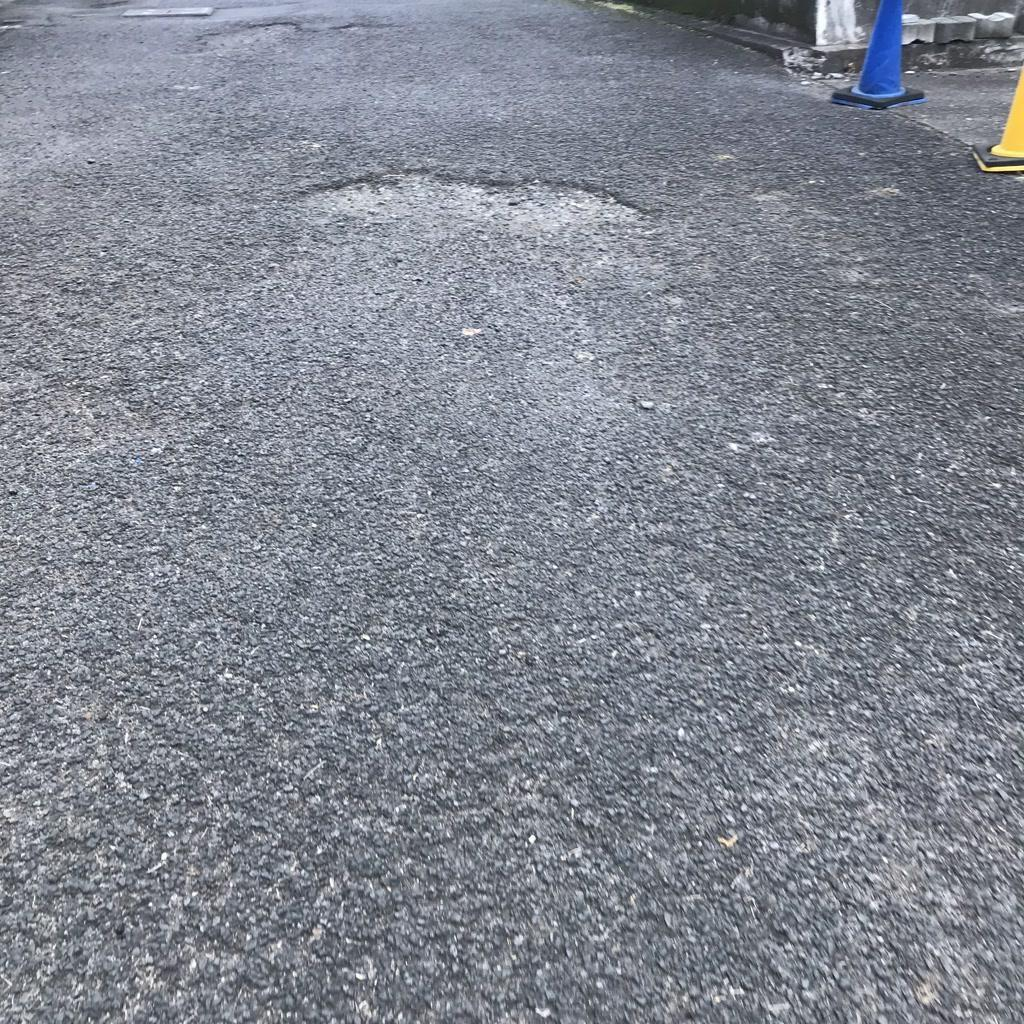pothole: (295, 158, 651, 235), (202, 19, 301, 49)
